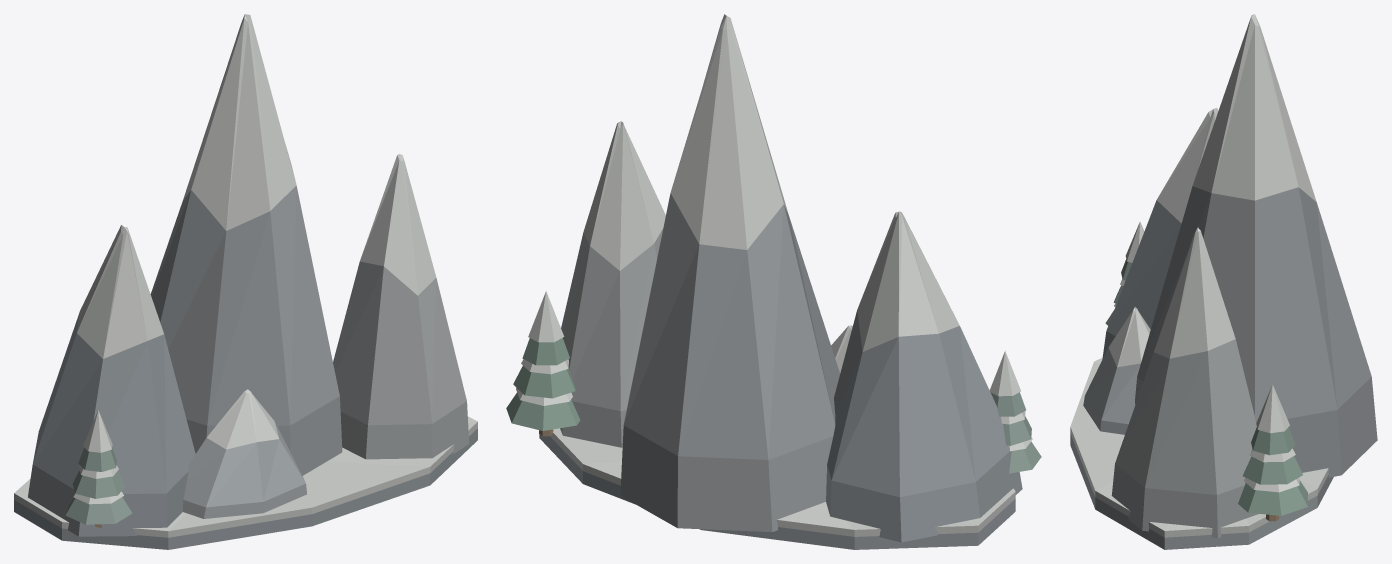
The picture shows the model from 3 angles, left to right: view 1: azimuth 30°, elevation 25°; view 2: azimuth 150°, elevation 25°; view 3: azimuth 270°, elevation 25°; orthographic projection. The views are drawn at different scales.
Visible parts, largest first — view 1: S01; view 2: S01; view 3: S01.
Part boxes in pixels (box(x1,y1,x2,y2)): S01: box(14, 14, 477, 549); S01: box(506, 14, 1041, 549); S01: box(1070, 14, 1377, 549).
Bounding box in the file's own units: 4.75 × 4.69 × 2.95.
